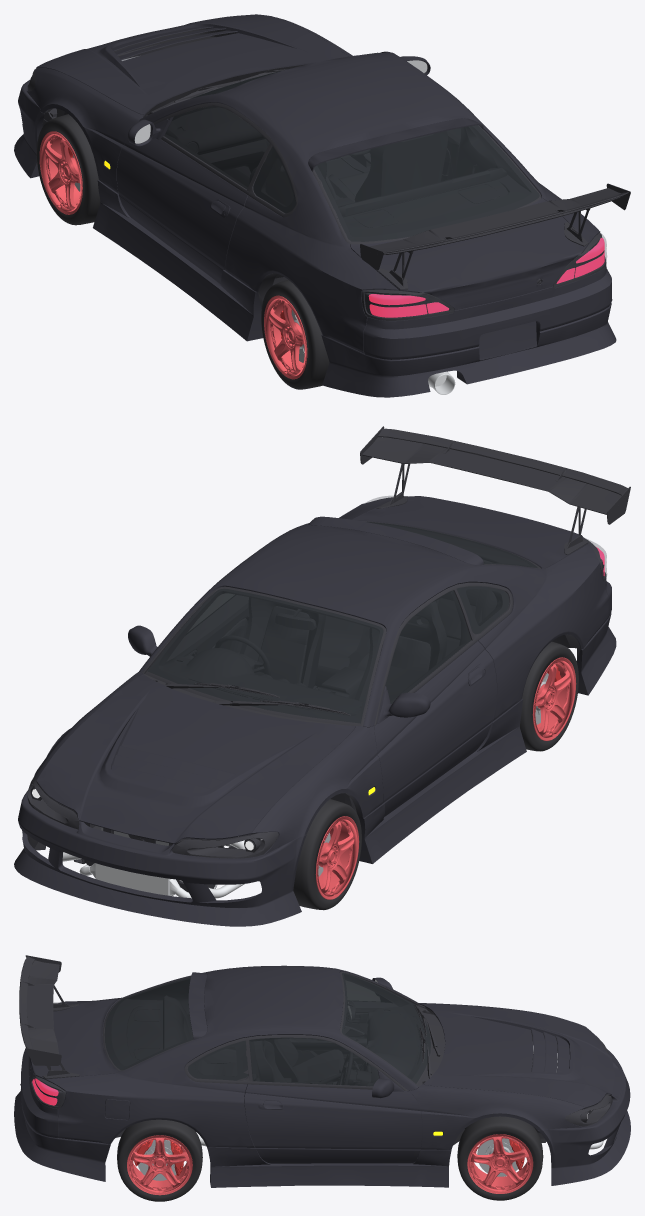
File: Silvia_S15_Showcase.glb
The picture shows the model from 3 angles, top to bottom: view 1: azimuth 30°, elevation 25°; view 2: azimuth 150°, elevation 25°; view 3: azimuth 270°, elevation 25°; orthographic projection. The views are drawn at different scales.
Visible parts, largest first — view 1: S15_BodyPaint, S15_Glass, S15_Cockpit, S15_CarbonTrim, S15_LightGlass, S15_WheelFL_Tire, S15_WheelRL_Tire, S15_WheelFL_Rim, S15_WheelRL_Rim, S15_Taillights, S15_ChromeExhaust; view 2: S15_BodyPaint, S15_Glass, S15_Cockpit, S15_CarbonTrim, S15_WheelFL_Tire, S15_WheelFL_Rim, S15_WheelRL_Rim, S15_WheelRL_Tire, S15_ChromeExhaust; view 3: S15_BodyPaint, S15_Glass, S15_Cockpit, S15_CarbonTrim, S15_WheelFR_Tire, S15_WheelRR_Tire, S15_WheelFR_Rim, S15_WheelRR_Rim, S15_LightGlass, S15_WheelFR_Rotor, S15_WheelRR_Rotor, S15_Taillights (+1 smaller).
Part boxes in pixels (x1=…): S15_BodyPaint: x1=14, y1=14, x2=616, y2=397; S15_Glass: x1=164, y1=52, x2=539, y2=241; S15_Cockpit: x1=164, y1=106, x2=531, y2=236; S15_CarbonTrim: x1=27, y1=28, x2=630, y2=320; S15_LightGlass: x1=361, y1=233, x2=606, y2=320; S15_WheelFL_Tire: x1=36, y1=114, x2=100, y2=225; S15_WheelRL_Tire: x1=261, y1=279, x2=329, y2=389; S15_WheelFL_Rim: x1=39, y1=131, x2=82, y2=214; S15_WheelRL_Rim: x1=264, y1=295, x2=307, y2=379; S15_Taillights: x1=368, y1=238, x2=604, y2=317; S15_ChromeExhaust: x1=134, y1=60, x2=455, y2=394; S15_BodyPaint: x1=14, y1=496, x2=616, y2=926; S15_Glass: x1=147, y1=522, x2=537, y2=723; S15_Cockpit: x1=159, y1=524, x2=530, y2=715; S15_CarbonTrim: x1=27, y1=426, x2=630, y2=892; S15_WheelFL_Tire: x1=293, y1=799, x2=361, y2=910; S15_WheelFL_Rim: x1=315, y1=816, x2=359, y2=899; S15_WheelRL_Rim: x1=532, y1=657, x2=576, y2=741; S15_WheelRL_Tire: x1=520, y1=641, x2=578, y2=751; S15_ChromeExhaust: x1=62, y1=840, x2=245, y2=898; S15_BodyPaint: x1=14, y1=965, x2=630, y2=1187; S15_Glass: x1=104, y1=972, x2=430, y2=1086; S15_Cockpit: x1=111, y1=974, x2=424, y2=1086; S15_CarbonTrim: x1=19, y1=955, x2=612, y2=1158; S15_WheelFR_Tire: x1=457, y1=1116, x2=543, y2=1200; S15_WheelRR_Tire: x1=117, y1=1119, x2=202, y2=1201; S15_WheelFR_Rim: x1=467, y1=1134, x2=533, y2=1193; S15_WheelRR_Rim: x1=127, y1=1135, x2=192, y2=1195; S15_LightGlass: x1=30, y1=1002, x2=587, y2=1116; S15_WheelFR_Rotor: x1=477, y1=1138, x2=518, y2=1176; S15_WheelRR_Rotor: x1=138, y1=1140, x2=176, y2=1180; S15_Taillights: x1=32, y1=1078, x2=58, y2=1105.
Bounding box in the file's own units: 1.95 × 1.3 × 4.51.
